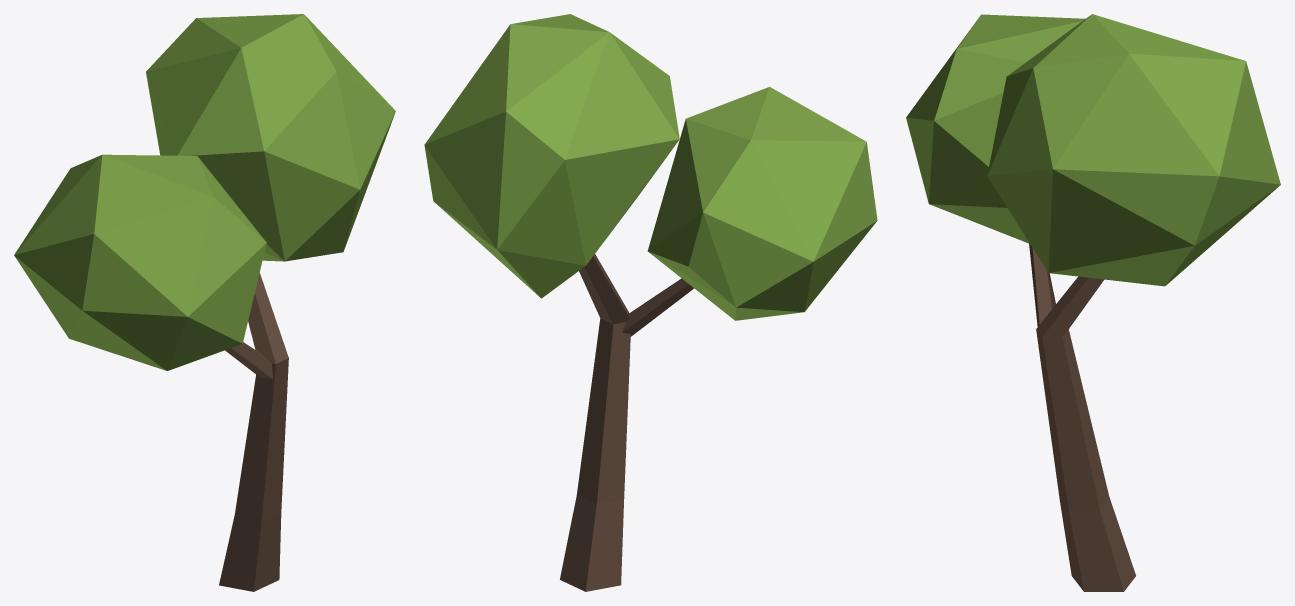
Rendered from TB_Env_RTree_Two_B.FBX.
3 views of the same model, side by side, from view 1: azimuth 30°, elevation 25°; view 2: azimuth 150°, elevation 25°; view 3: azimuth 270°, elevation 25° (orthographic). The views are drawn at different scales.
Parts seen in each view (by area): view 1: TB_Env_RTree_Two_B; view 2: TB_Env_RTree_Two_B; view 3: TB_Env_RTree_Two_B.
Part boxes in pixels (<box>): TB_Env_RTree_Two_B: <box>14,14,395,591</box>; TB_Env_RTree_Two_B: <box>424,14,877,591</box>; TB_Env_RTree_Two_B: <box>906,14,1280,591</box>.
Bounding box in the file's own units: 3.77 × 5.55 × 3.36.
